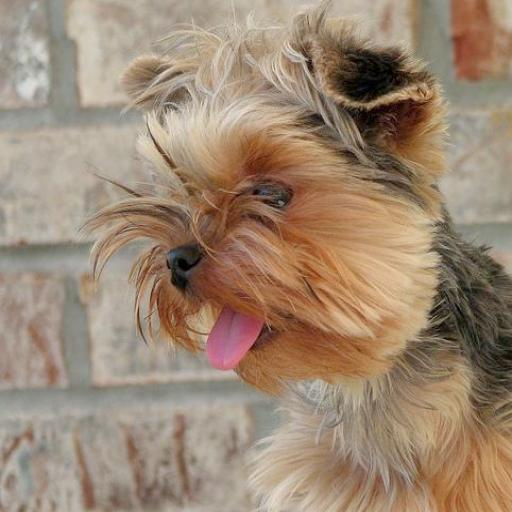dog_face: (120, 44, 427, 387)
